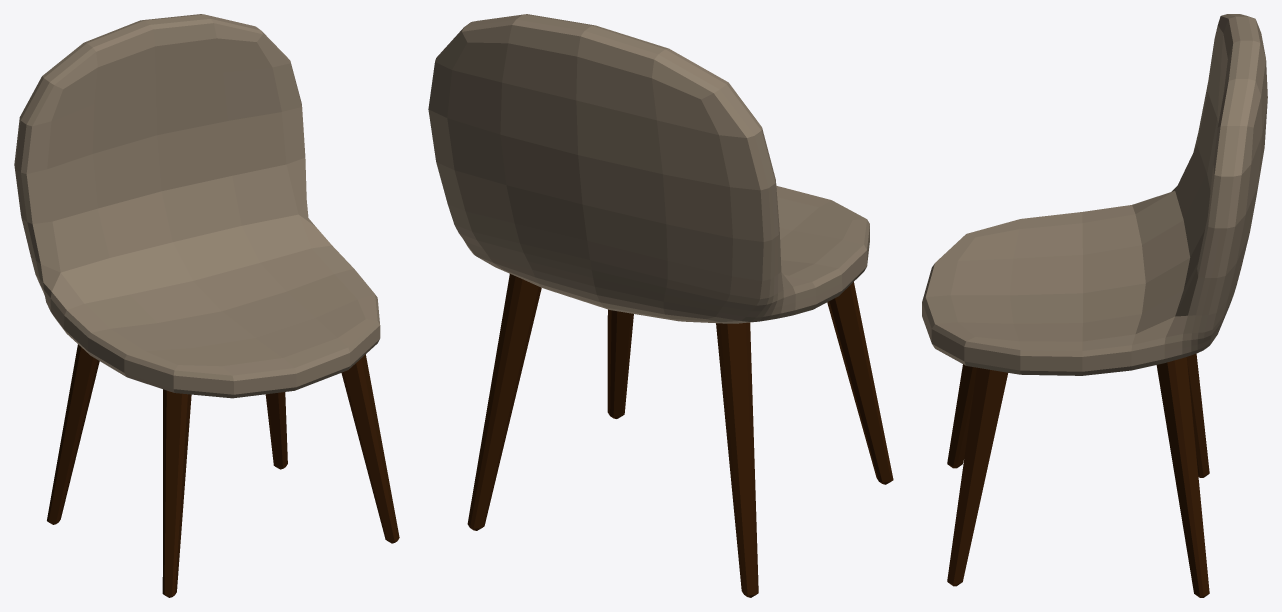
Rendered from chairBeige.fbx.
The picture shows the model from 3 angles, left to right: view 1: azimuth 30°, elevation 25°; view 2: azimuth 150°, elevation 25°; view 3: azimuth 270°, elevation 25°; orthographic projection. The views are drawn at different scales.
Parts seen in each view (by area): view 1: beigeChair; view 2: beigeChair; view 3: beigeChair.
Part boxes in pixels (box(x1,y1,x2,y2)): beigeChair: box(14, 14, 399, 597); beigeChair: box(428, 14, 893, 597); beigeChair: box(922, 14, 1267, 597).
Bounding box in the file's own units: 66.63 × 104 × 65.5.
